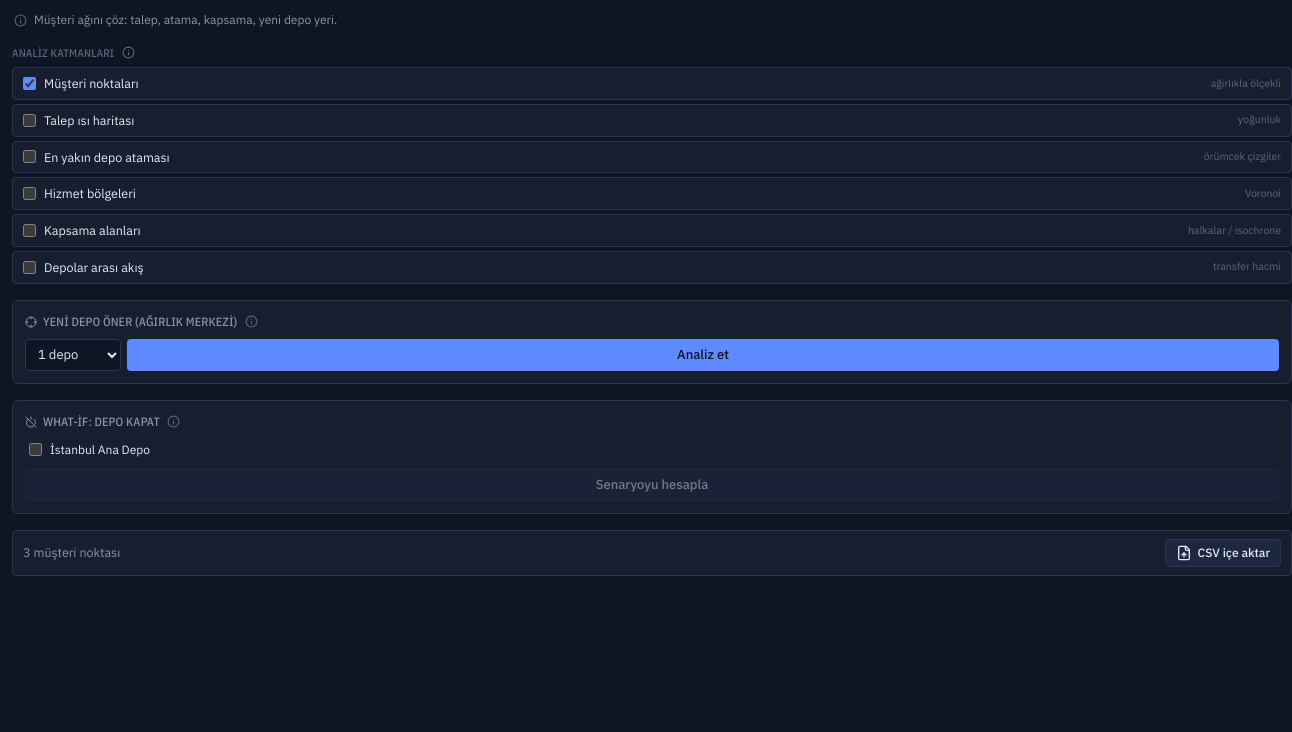
Test: NetworkPanel › kapsama açılınca mod notunu ve kapsam dışı müşteriyi gösterir
The image size is (1292, 732).
Click the checkbox labelled "Kapsama alanları halkalar / isochrone": [30, 230] box [23,224,36,237]
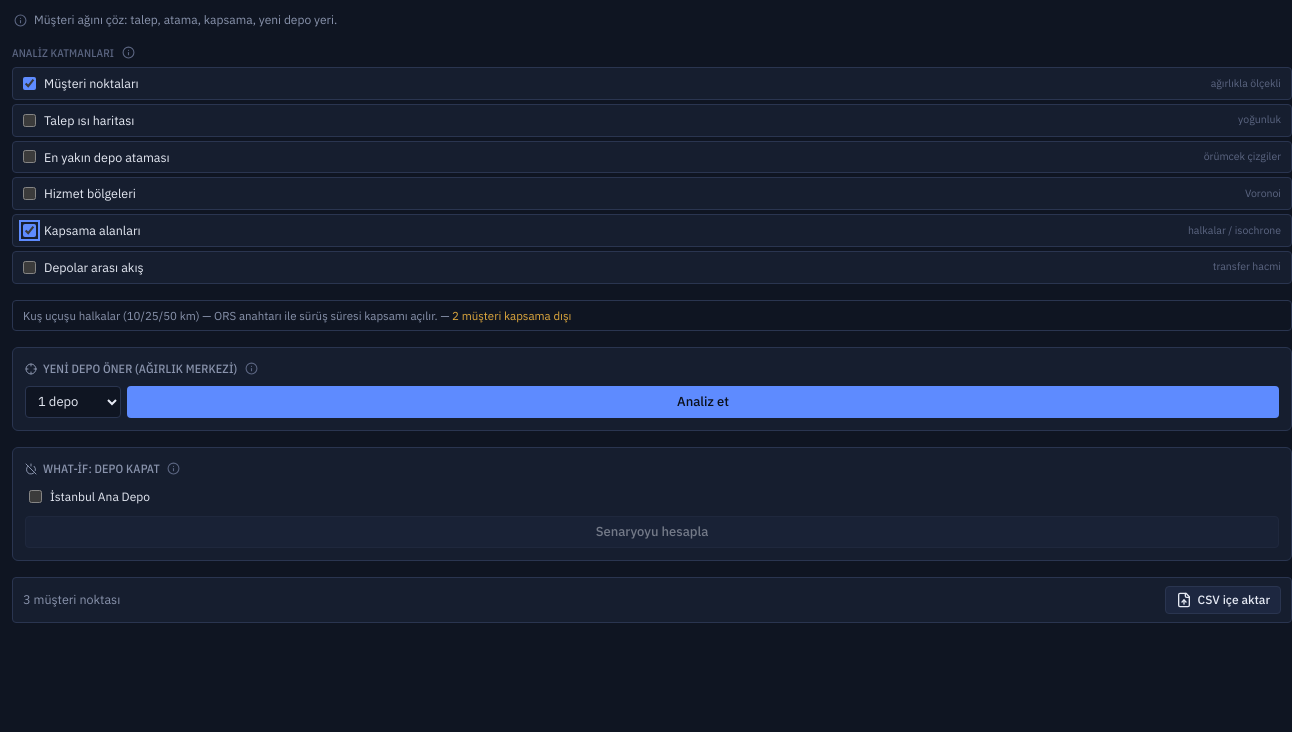
Check: the text "Kuş uçuşu halkalar" is shown, box [23,308,438,322]
Check: the text "2 müşteri kapsama dışı" is shown, box [452,308,572,322]
